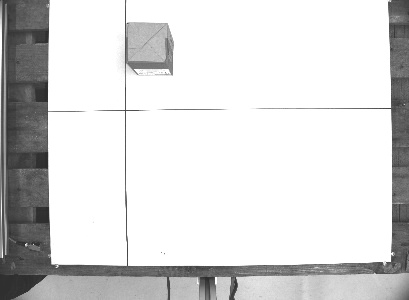b4: (123, 20, 176, 78)
